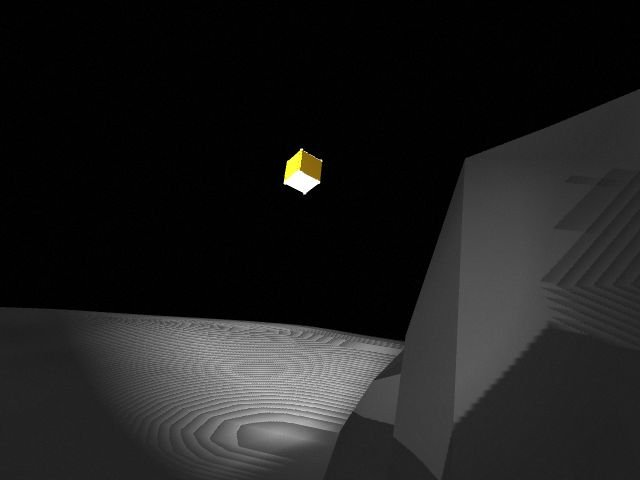cubesat: (275, 146, 329, 196)
